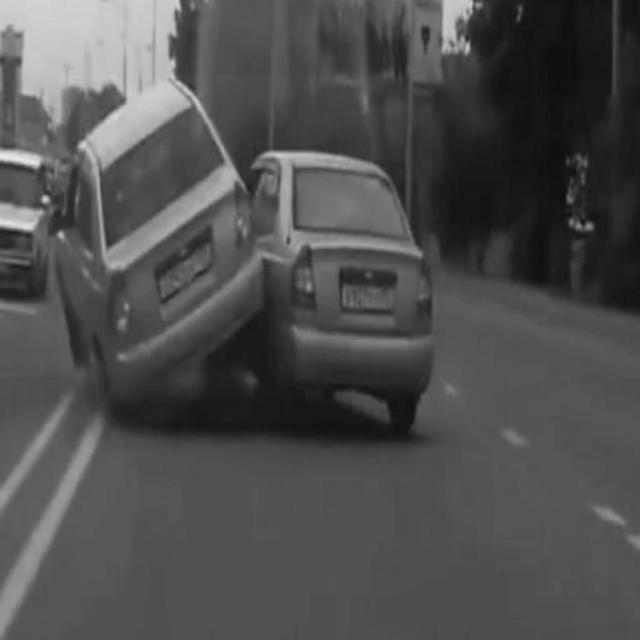accident: (59, 76, 433, 423)
vehicle: (0, 144, 50, 304)
